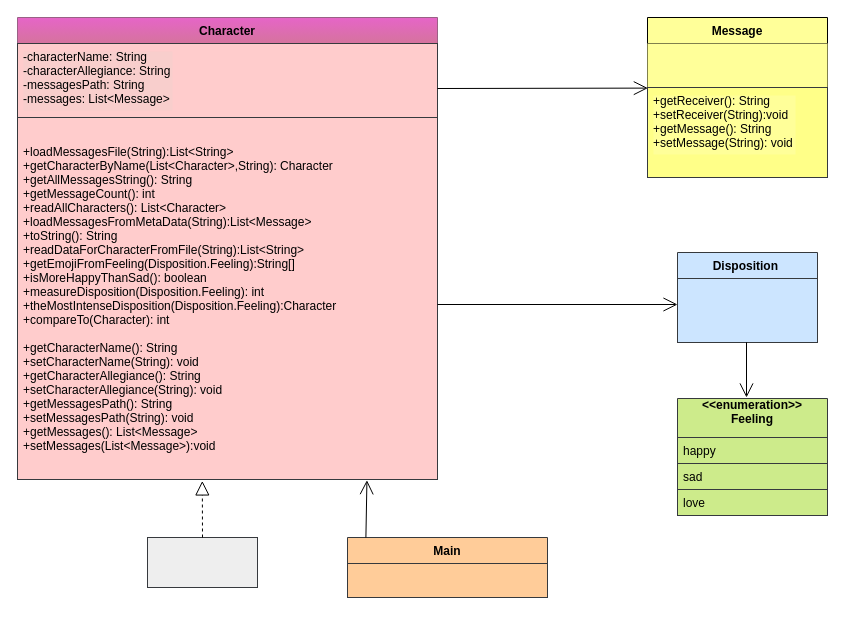
This 845x618 diagram has some shape labels left out. The centre of each missing label's shape, as x and y in pixels:
"+main(String[] args): void" goes at (x=447, y=580).
"-happyEmoji:String[] -sadEmoji:String[] -loveEmoji:String[]" goes at (x=747, y=310).
"-receiver:String -message:String" goes at (x=737, y=65).
"«interface» Comparable" goes at (x=202, y=562).
